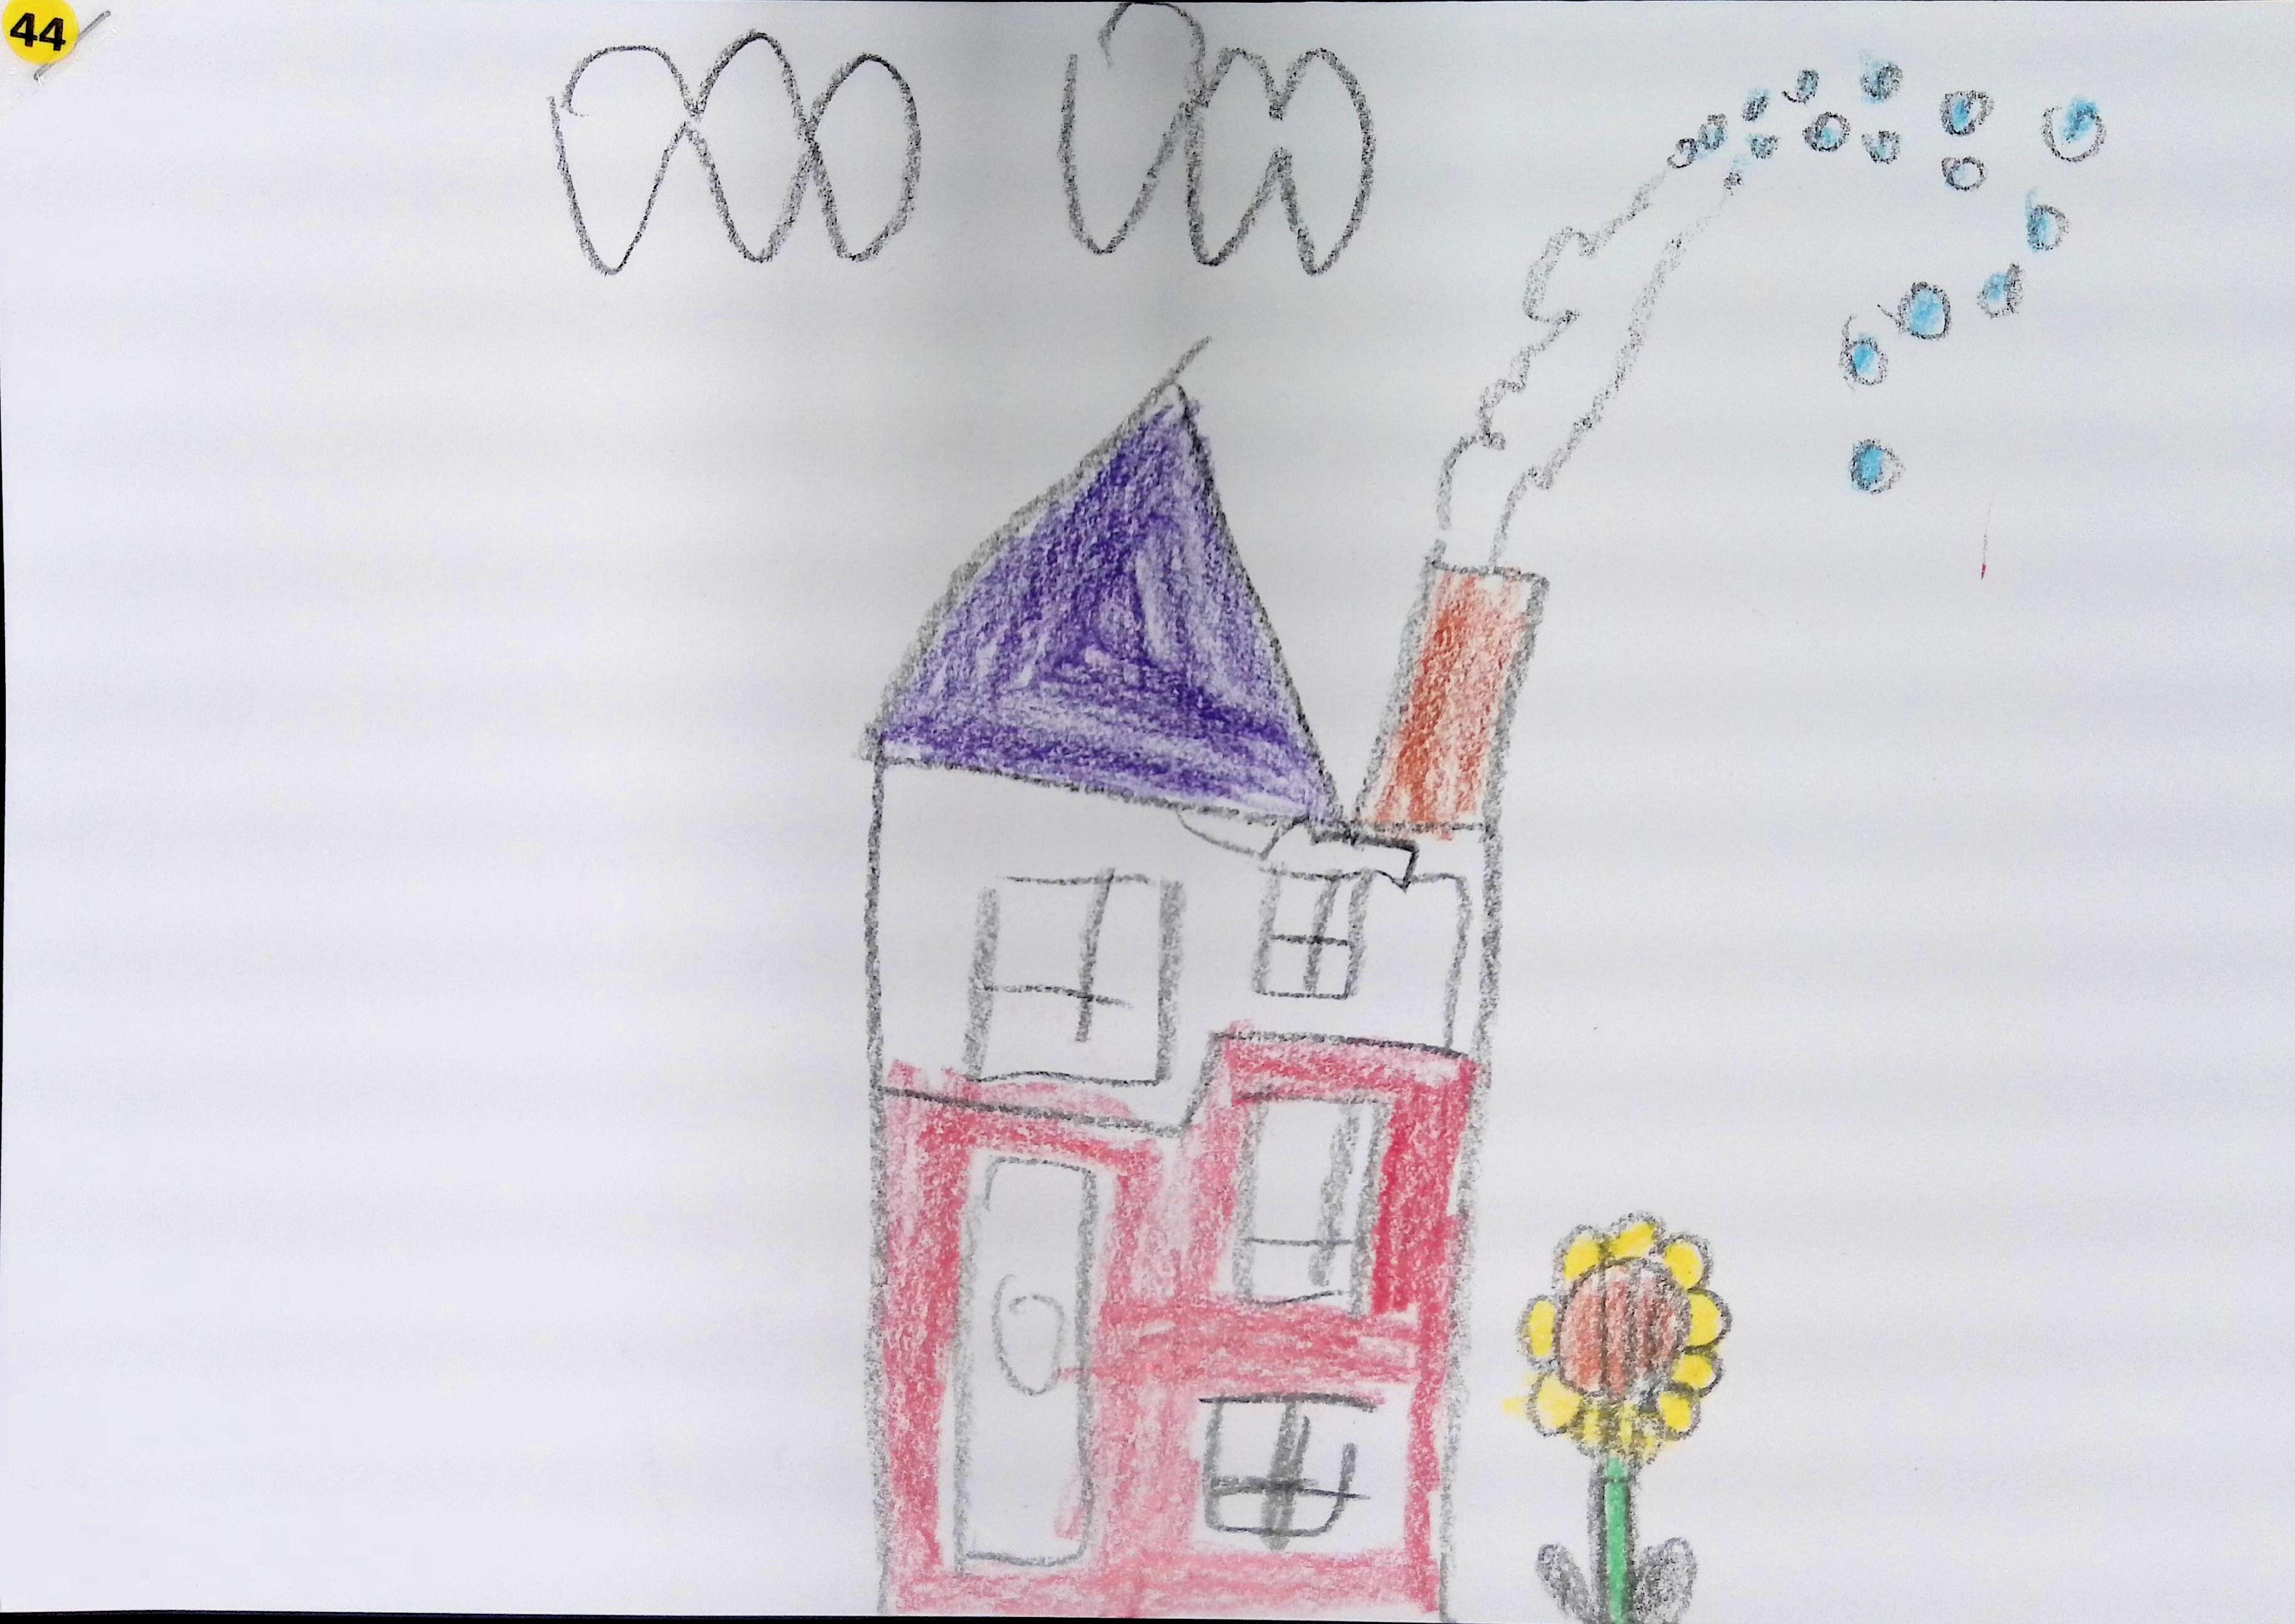chimney: (1360, 566, 1548, 830)
door: (954, 1158, 1097, 1568)
house: (866, 362, 1546, 1619)
roof: (866, 362, 1339, 824)
wall: (872, 763, 1492, 1622)
window: (961, 868, 1184, 1084), (1235, 1100, 1386, 1313), (1198, 1397, 1362, 1541), (1253, 868, 1378, 1000)
